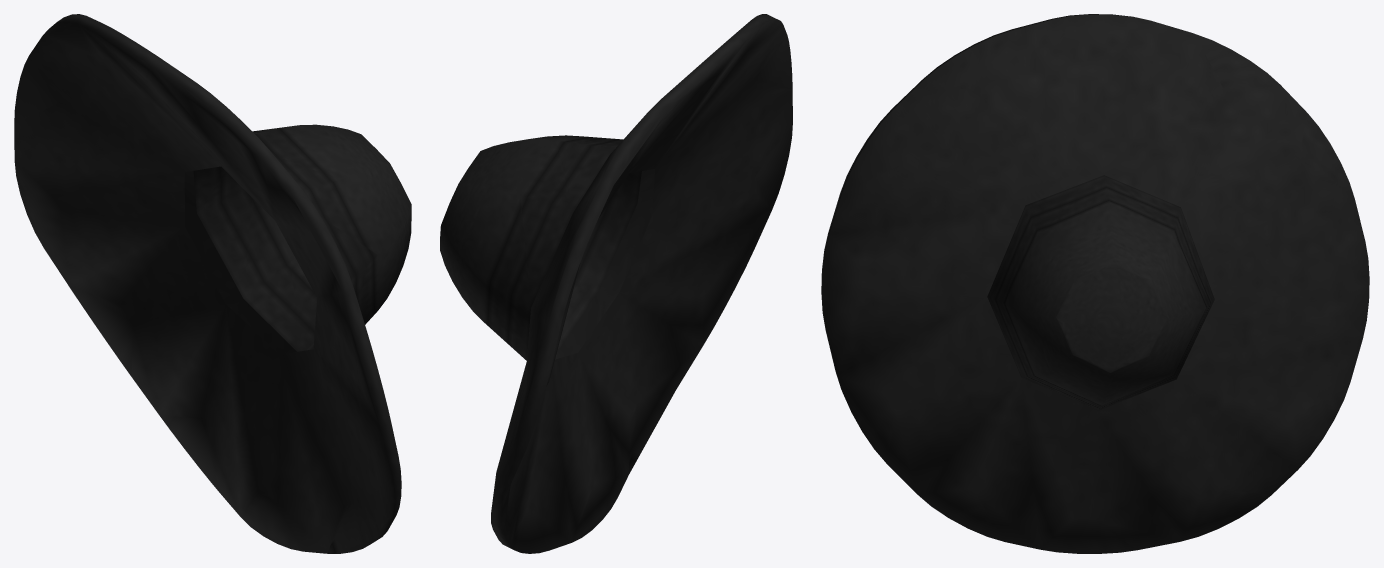
Rendered from LadyDHat.fbx.
The picture shows the model from 3 angles, left to right: view 1: azimuth 30°, elevation 25°; view 2: azimuth 150°, elevation 25°; view 3: azimuth 270°, elevation 25°; orthographic projection. The views are drawn at different scales.
Parts seen in each view (by area): view 1: F_SummerHat; view 2: F_SummerHat; view 3: F_SummerHat.
Boxes of the visible parts, left/top/right/bottom form: F_SummerHat: left=14, top=14, right=411, bottom=553; F_SummerHat: left=440, top=14, right=792, bottom=553; F_SummerHat: left=821, top=14, right=1369, bottom=553.
Bounding box in the file's own units: 0.1767 × 0.3212 × 0.3346.
